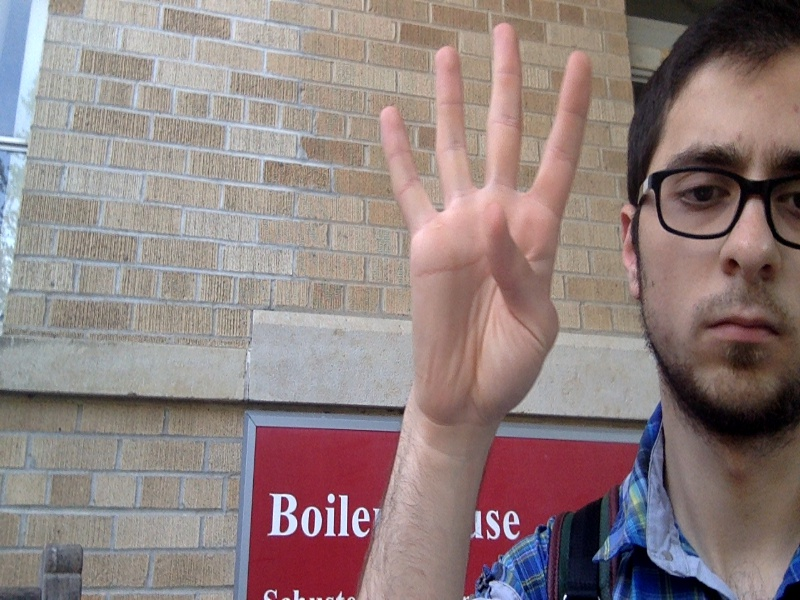4-hand: (377, 24, 591, 443)
